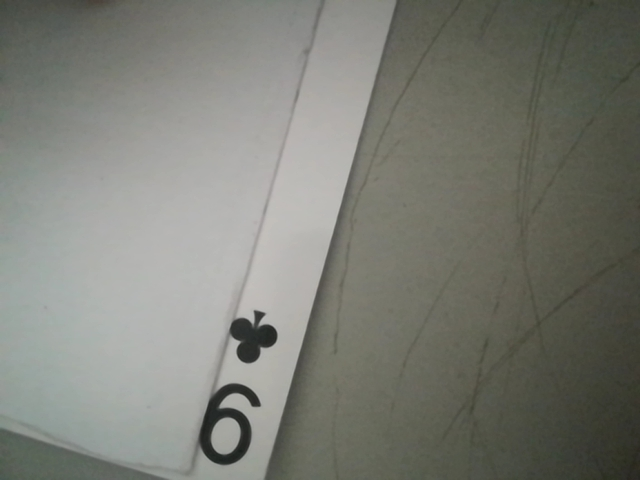mh 9: (184, 300, 294, 477)
